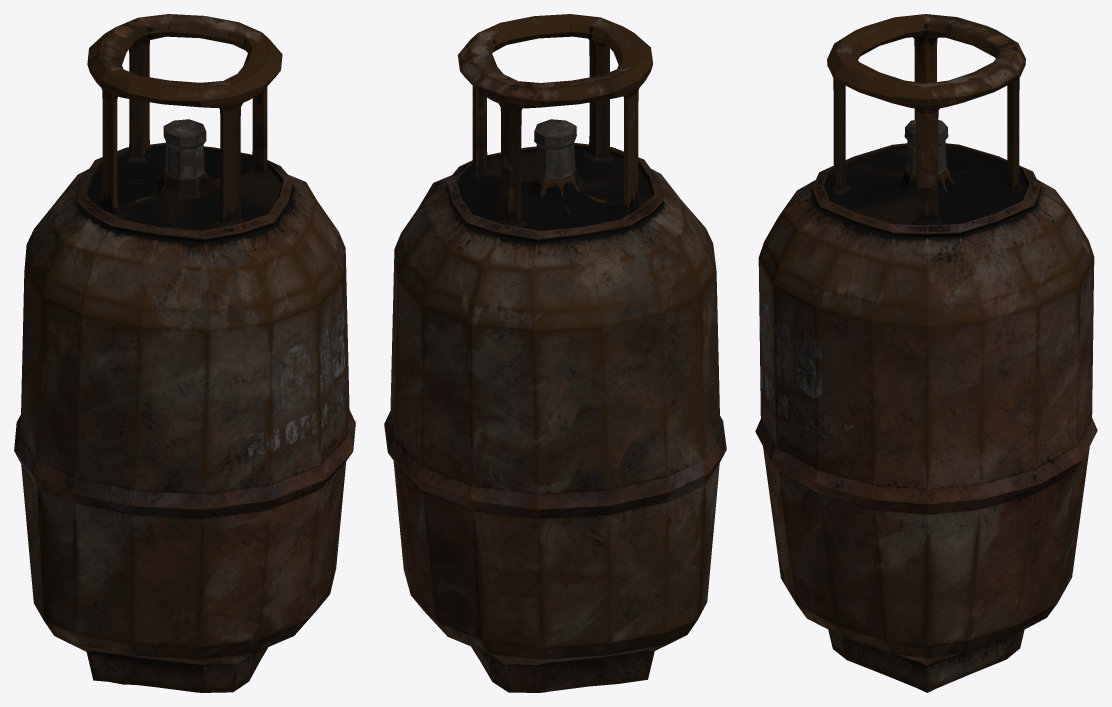
Rendered from Gas_Cylinder.fbx.
3 renders of one model, left to right at view 1: azimuth 30°, elevation 25°; view 2: azimuth 150°, elevation 25°; view 3: azimuth 270°, elevation 25°, orthographic.
Parts seen in each view (by area): view 1: Gas_Cylinder; view 2: Gas_Cylinder; view 3: Gas_Cylinder.
Part boxes in pixels (bbox=[...]): Gas_Cylinder: bbox=[14, 14, 355, 692]; Gas_Cylinder: bbox=[384, 14, 726, 692]; Gas_Cylinder: bbox=[755, 14, 1097, 692].
Size of the model in its own units: 45.97 by 87.97 by 45.24.
